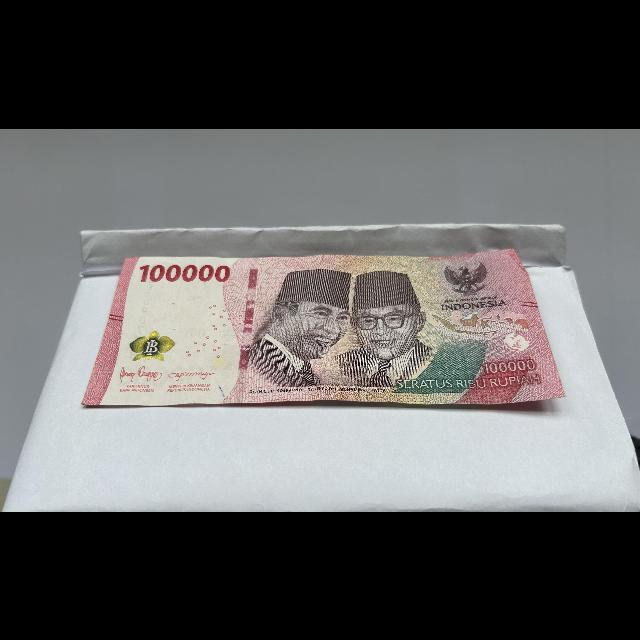Asli-100k: (75, 245, 570, 409)
Tinta-Asli-100k: (124, 327, 181, 363)
